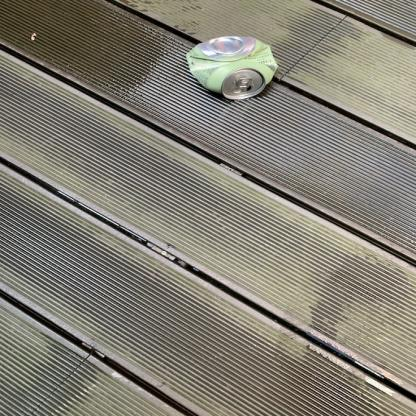Aerosols: (176, 27, 290, 112)
